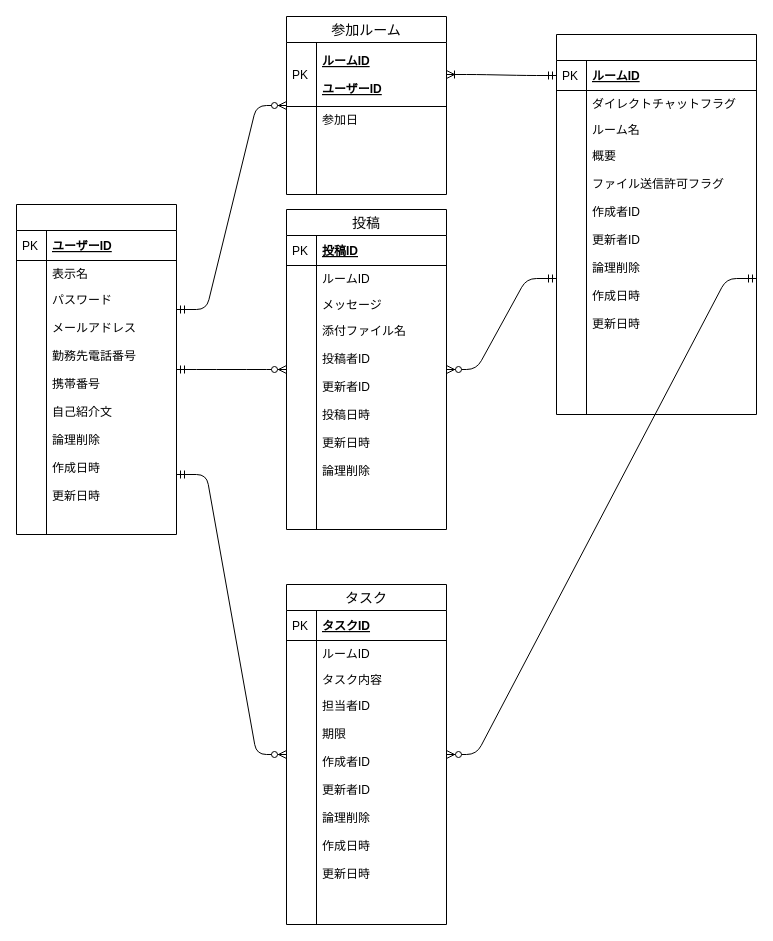
The diagram is 773 pixels wide and 941 high, and some of its shapes have lost their labels. The shapes that lost their labels are listed below. From the top down, each one's box as (x1, y1, x2, y2) in pixels, then its label:
(556, 34, 756, 414): チャットルーム
(16, 204, 176, 534): ユーザー情報
